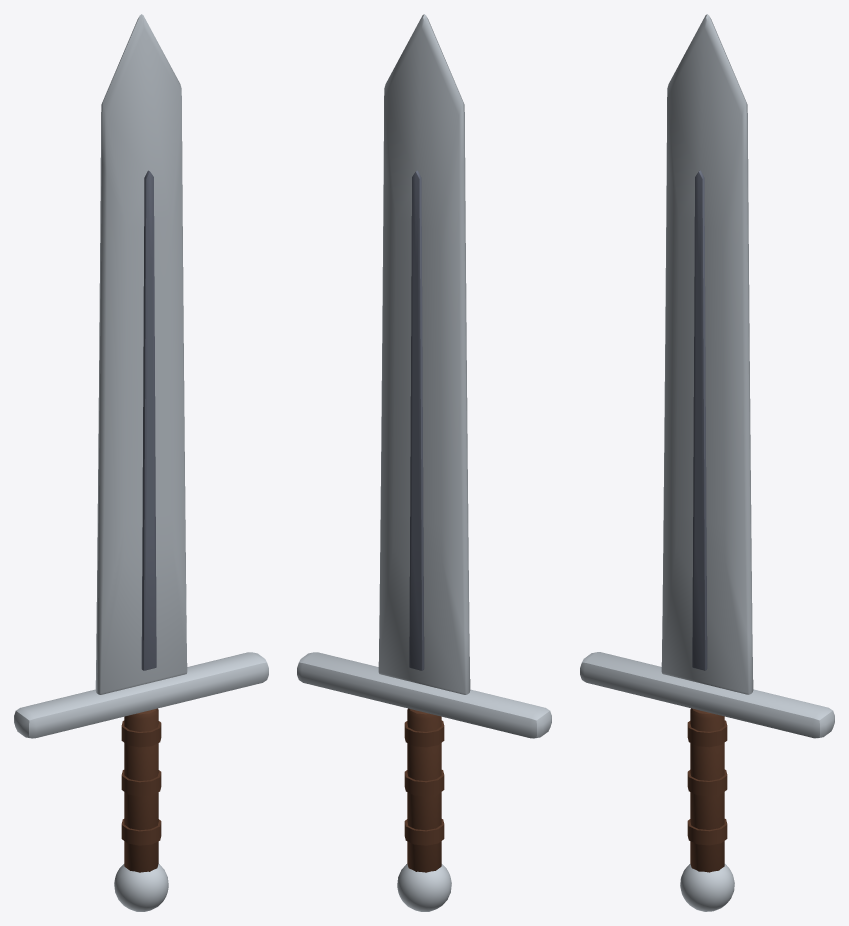
File: long.glb
3 renders of one model, left to right at view 1: azimuth 30°, elevation 25°; view 2: azimuth 150°, elevation 25°; view 3: azimuth 330°, elevation 25°, orthographic.
Visible parts, largest first — view 1: wpn_long; view 2: wpn_long; view 3: wpn_long.
Boxes of the visible parts, box(x1,y1,x2,y2) form: wpn_long: box(14, 14, 268, 911); wpn_long: box(297, 14, 551, 911); wpn_long: box(580, 14, 834, 911).
Size of the model in its own units: 0.72 by 2.52 by 0.14.
